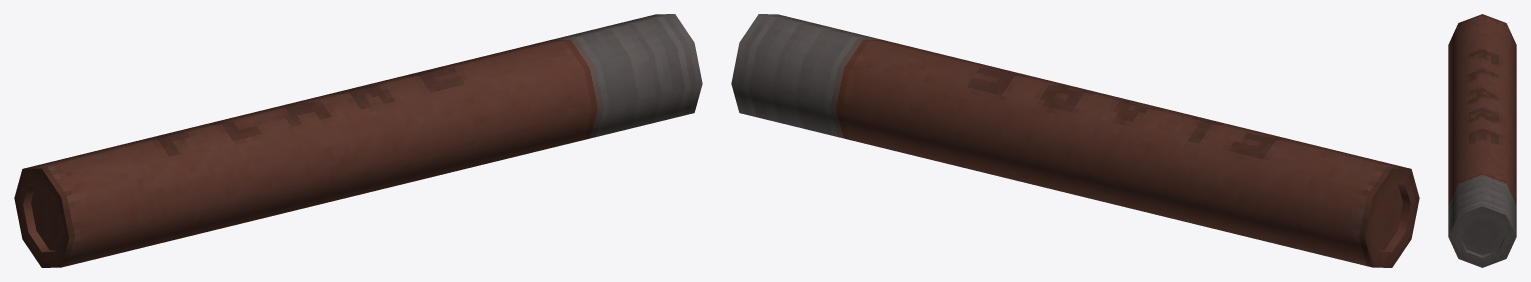
Rendered from flare_mx_1.glb.
The picture shows the model from 3 angles, left to right: view 1: azimuth 30°, elevation 25°; view 2: azimuth 150°, elevation 25°; view 3: azimuth 270°, elevation 25°; orthographic projection. The views are drawn at different scales.
Visible parts, largest first — view 1: flare_mx_1; view 2: flare_mx_1; view 3: flare_mx_1.
Part boxes in pixels (bbox=[...]): flare_mx_1: bbox=[14, 14, 702, 267]; flare_mx_1: bbox=[731, 14, 1419, 267]; flare_mx_1: bbox=[1448, 14, 1516, 267].
Bounding box in the file's own units: 0.2 × 0.03 × 0.03.
1 material, 1 textured.
